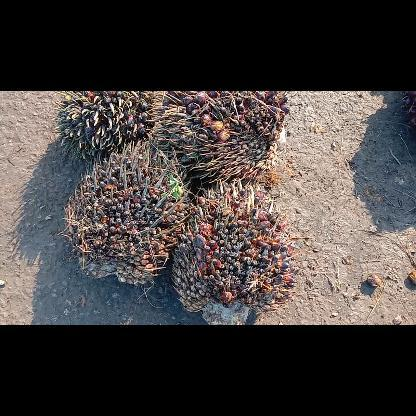TBS abnormal: (61, 134, 191, 286), (170, 178, 298, 324), (56, 91, 154, 163)
TBS masak: (148, 90, 294, 188)
